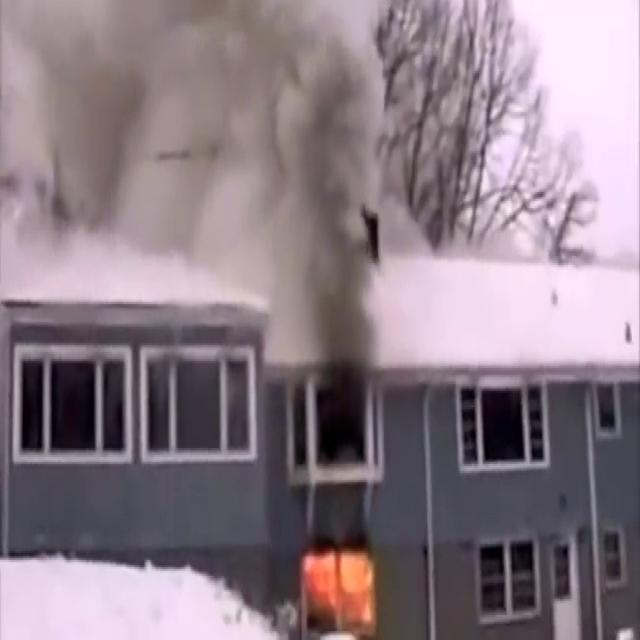Smoke: (0, 1, 394, 310)
